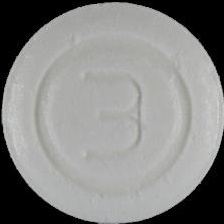63187-526: (0, 0, 224, 224)
